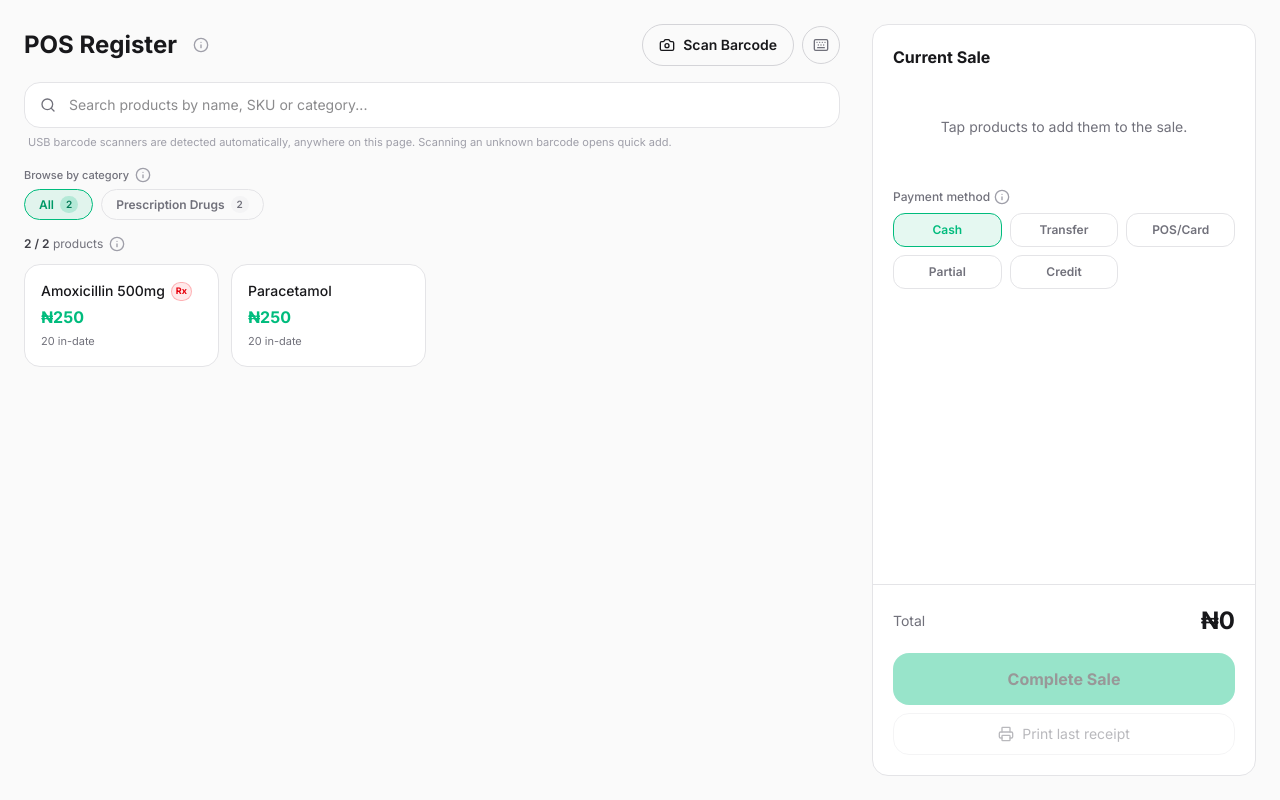
POS: pharmacy mode › gates Rx sales behind the prescription check
Expected: the text "Amoxicillin 500mg" is shown, [41, 281, 165, 301]
What coordinates should you click on to do the following:
click the button "Amoxicillin 500mg Rx ₦250 20 in-date"
I would click on:
 (122, 316)
Its box is [24, 264, 219, 367].
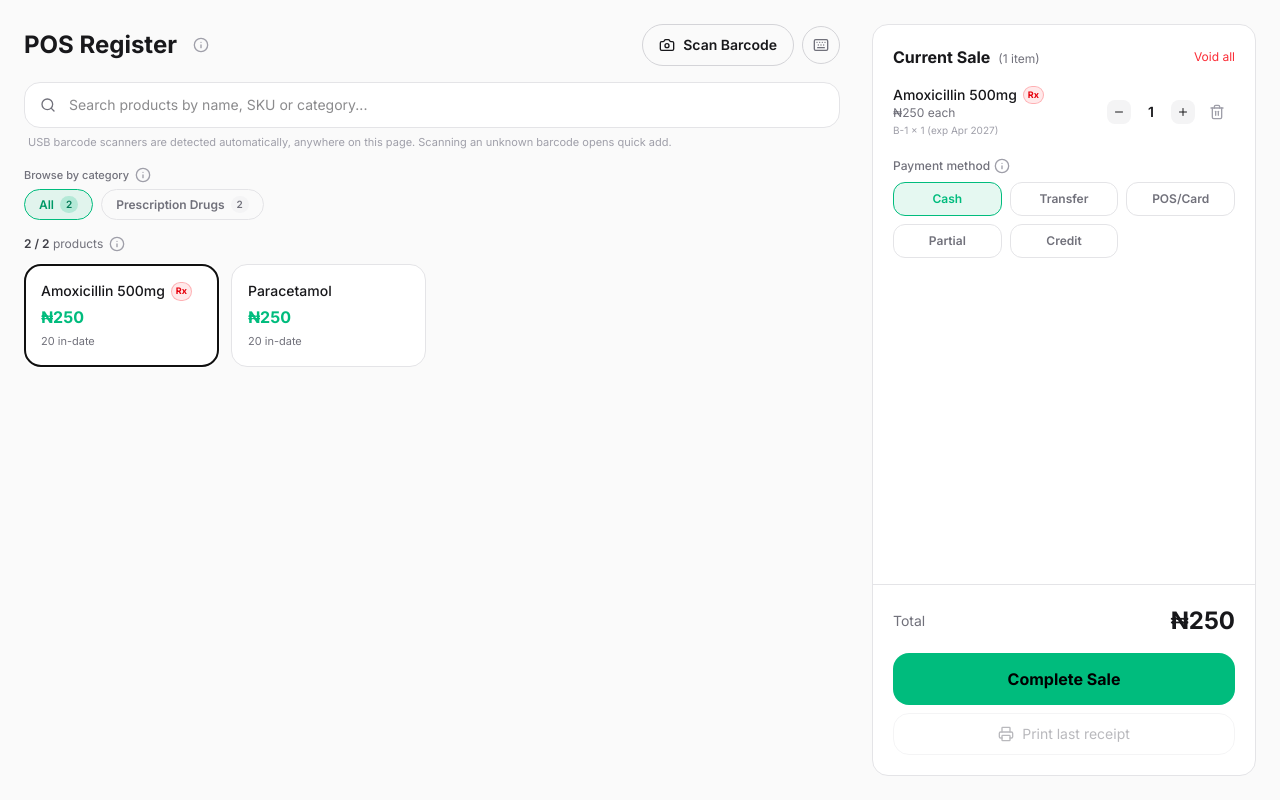
What coordinates should you click on to do the following:
click the button "Complete Sale"
I would click on:
 (1064, 679)
Its box is [893, 653, 1235, 705].
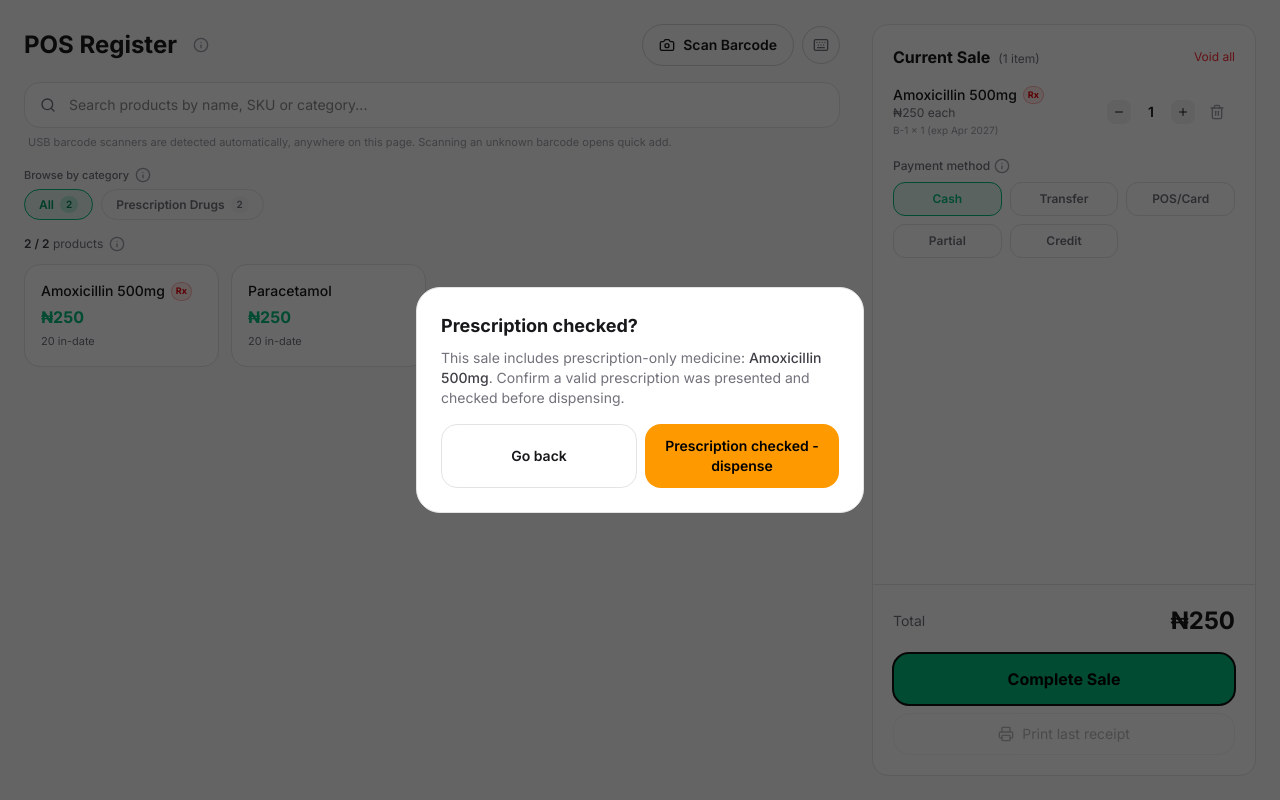
Now the dialog "Prescription check" is shown
Confirming the check completes the sale.
What coordinates should you click on to do the following:
click the button "Prescription checked - dispense"
I would click on:
 (742, 456)
Its box is [645, 424, 839, 488].
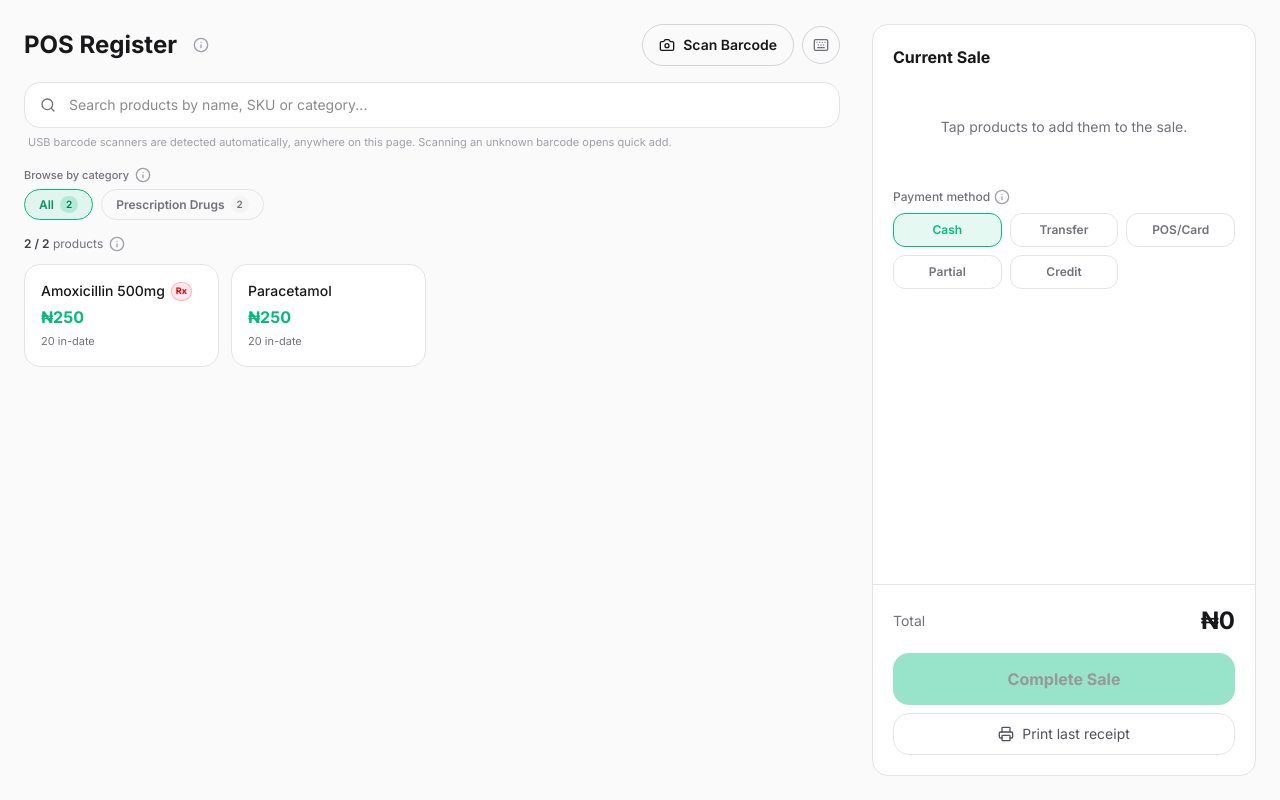
Now the heading "Prescription check" is gone
